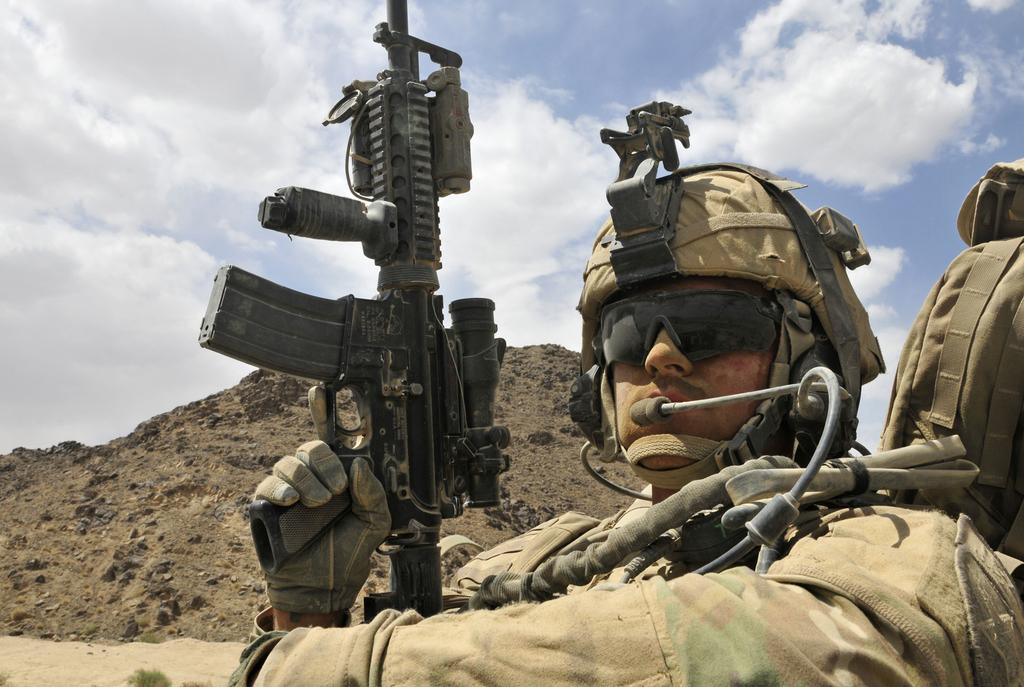non-violence: (224, 158, 1024, 686)
weapon: (190, 0, 510, 625)
